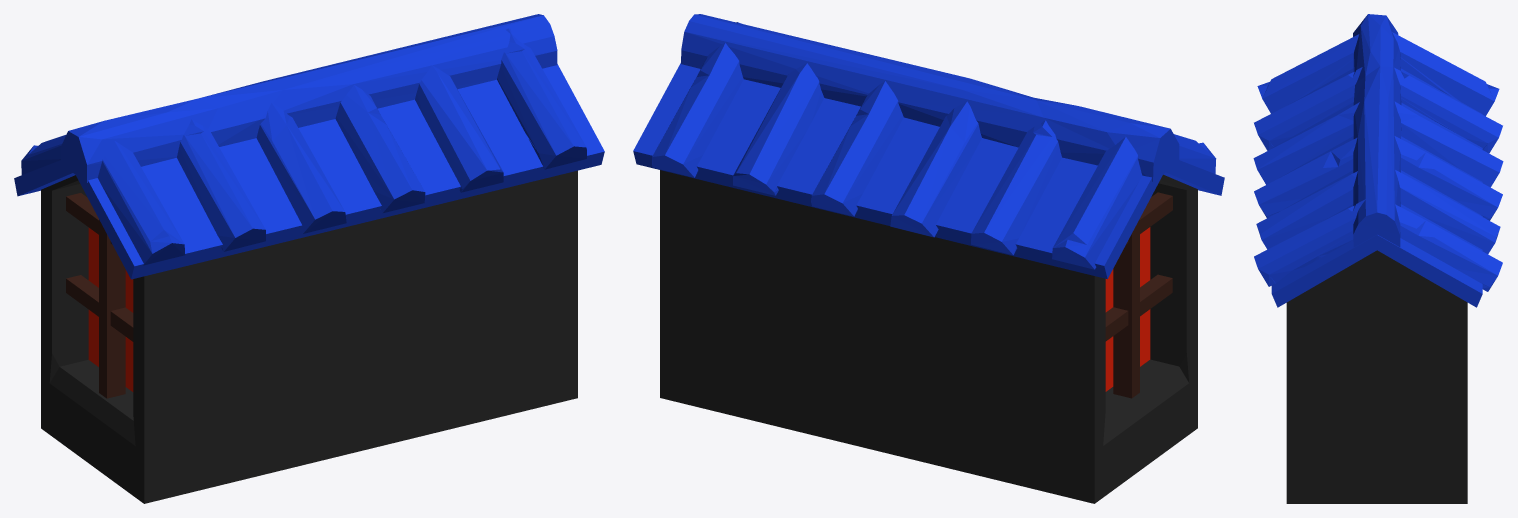
File: standard_rooftop_window.FBX
3 renders of one model, left to right at view 1: azimuth 30°, elevation 25°; view 2: azimuth 150°, elevation 25°; view 3: azimuth 270°, elevation 25°, orthographic. The views are drawn at different scales.
Visible parts, largest first — view 1: standard_rooftop_window; view 2: standard_rooftop_window; view 3: standard_rooftop_window.
Boxes of the visible parts, box(x1,y1,x2,y2) form: standard_rooftop_window: box(14, 14, 604, 503); standard_rooftop_window: box(633, 14, 1224, 503); standard_rooftop_window: box(1253, 14, 1503, 503).
Size of the model in its own units: 229 by 158 by 120.
